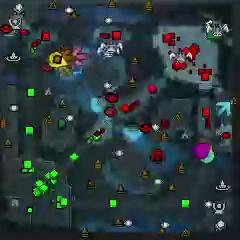p2: (200, 149, 215, 165)
p3: (194, 142, 211, 158)
p4: (49, 52, 67, 67)
x1: (73, 47, 89, 65)
x2: (58, 66, 73, 77)
x3: (216, 101, 231, 117)
x4: (206, 30, 218, 40)
x5: (63, 50, 77, 66)
